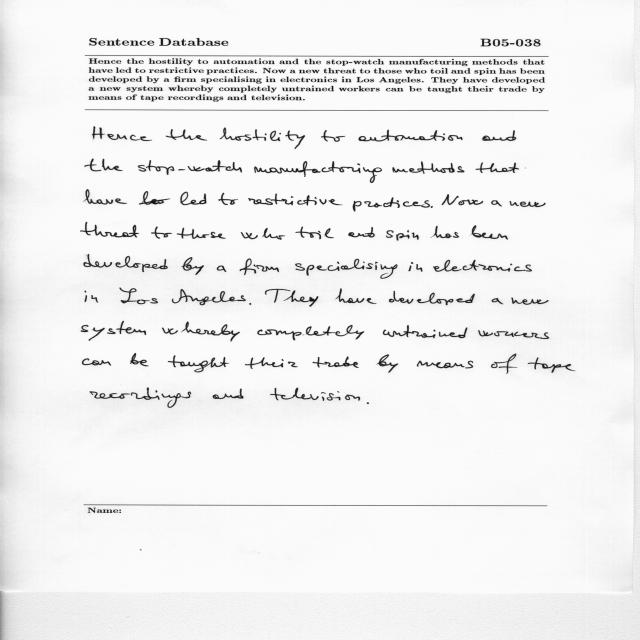word: (254, 161, 382, 183), (295, 259, 398, 279), (90, 388, 191, 408), (220, 127, 305, 149), (257, 325, 364, 340), (138, 160, 242, 175), (162, 322, 240, 342), (84, 255, 168, 272), (81, 321, 146, 341), (358, 130, 463, 142), (389, 291, 475, 305), (433, 260, 532, 272), (172, 289, 246, 305), (270, 388, 360, 401), (248, 194, 342, 206), (353, 198, 433, 212), (383, 325, 467, 338), (168, 356, 229, 373), (265, 289, 318, 307), (393, 161, 465, 174), (81, 222, 139, 238), (92, 127, 152, 141), (528, 357, 576, 373), (240, 259, 279, 276), (83, 190, 127, 205), (336, 288, 377, 304), (478, 330, 549, 339), (245, 357, 298, 369), (119, 288, 158, 304), (471, 225, 508, 240), (313, 356, 359, 368), (177, 228, 226, 239), (241, 228, 285, 240), (491, 354, 517, 374), (166, 129, 207, 141), (295, 227, 334, 239), (85, 159, 123, 171), (417, 361, 473, 369), (475, 163, 519, 173), (139, 191, 170, 205), (377, 354, 399, 373), (181, 257, 204, 275), (483, 130, 517, 141), (180, 192, 207, 205), (430, 226, 459, 238), (386, 230, 419, 240), (511, 297, 549, 305), (213, 389, 243, 399), (321, 130, 345, 142), (151, 226, 172, 239), (348, 227, 375, 237), (130, 353, 149, 367), (218, 193, 238, 205), (82, 358, 111, 366), (510, 201, 546, 207), (442, 194, 459, 205), (85, 291, 98, 303), (459, 200, 484, 206), (409, 262, 423, 272), (492, 298, 504, 304), (491, 201, 502, 207), (217, 266, 226, 272), (249, 303, 251, 305), (367, 402, 369, 404)
